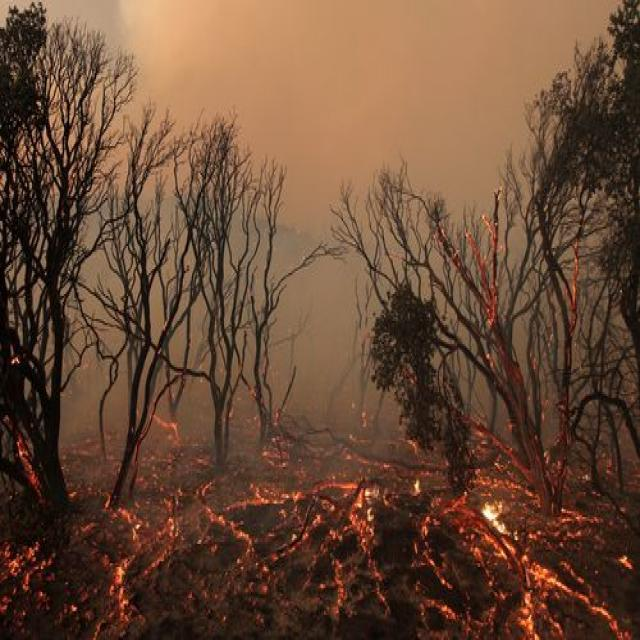Fire: (195, 463, 388, 612), (518, 554, 640, 640), (433, 204, 507, 328), (0, 526, 59, 622), (105, 498, 145, 630), (132, 490, 178, 587), (12, 430, 47, 500), (143, 410, 190, 442), (476, 498, 508, 544), (564, 239, 581, 325)
